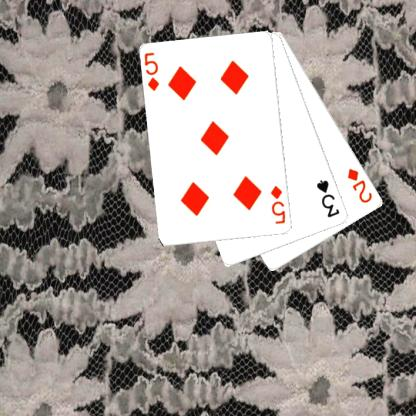2D: (345, 166, 374, 204)
3S: (314, 178, 341, 219)
5D: (268, 183, 287, 225), (142, 50, 160, 93)
